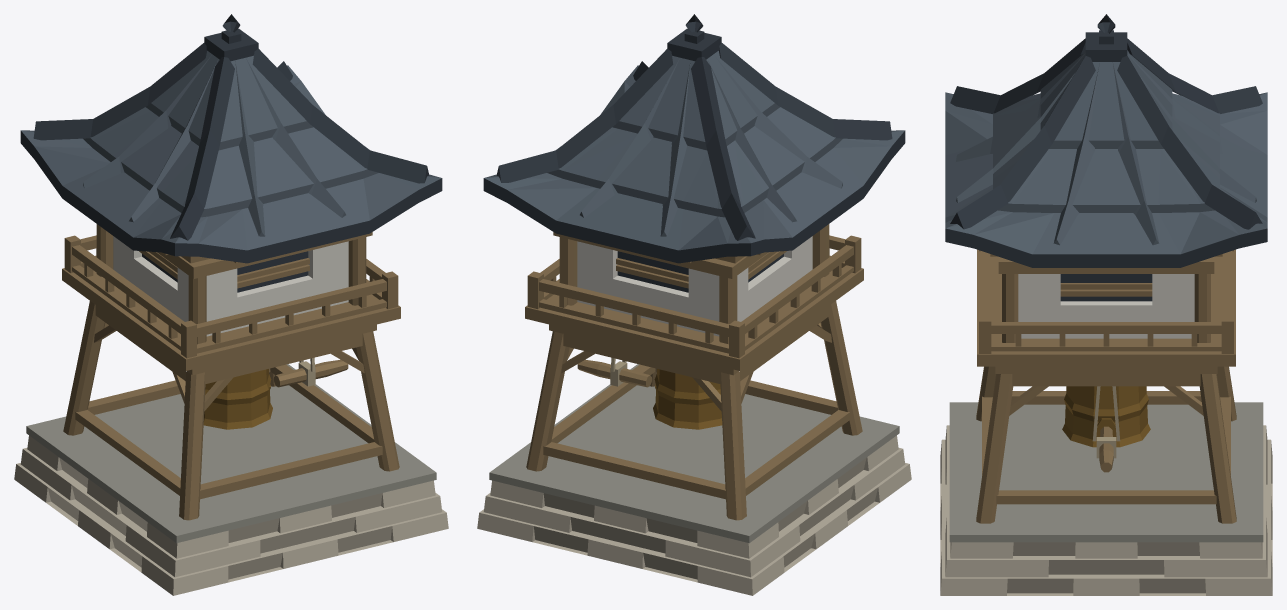
Rendered from temple-bell-tower-745387.glb.
The picture shows the model from 3 angles, left to right: view 1: azimuth 30°, elevation 25°; view 2: azimuth 150°, elevation 25°; view 3: azimuth 270°, elevation 25°; orthographic projection. The views are drawn at different scales.
Parts seen in each view (by area): view 1: bell-tower-shell, bell-bronze, shumoku-log; view 2: bell-tower-shell, bell-bronze, shumoku-log; view 3: bell-tower-shell, bell-bronze, shumoku-log.
Part boxes in pixels (x1,y1,x2,y2): bell-tower-shell: (14,14,448,595); bell-bronze: (203,369,272,429); shumoku-log: (274,357,348,387); bell-tower-shell: (477,14,911,595); bell-bronze: (653,369,722,429); shumoku-log: (577,357,651,387); bell-tower-shell: (940,14,1272,595); bell-bronze: (1062,386,1150,447); shumoku-log: (1092,386,1120,472).
Bounding box in the file's own units: 4 × 6.8 × 4.
